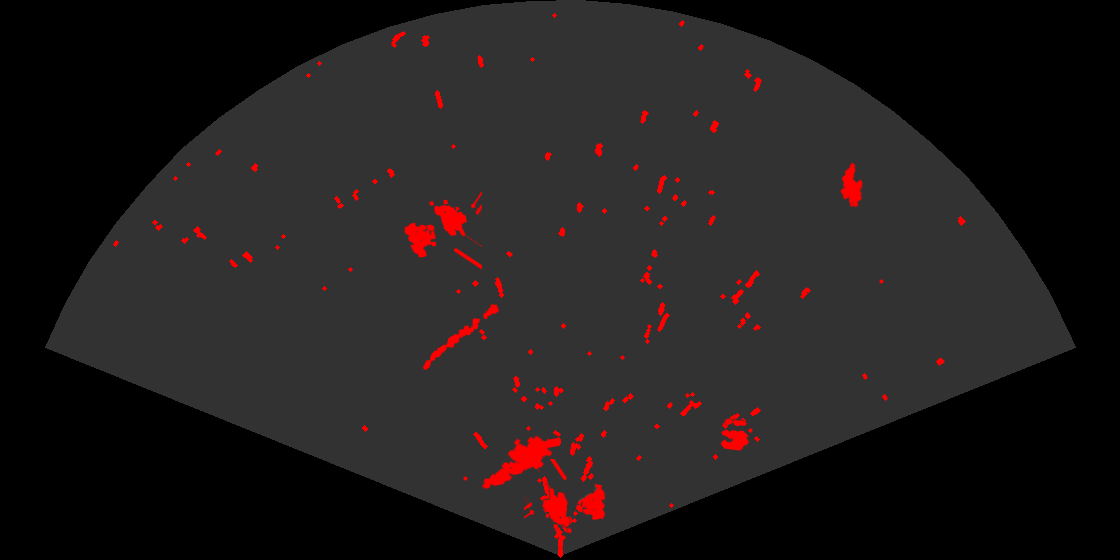AUV: (839, 161, 864, 209)
ball: (719, 417, 750, 452)
cage: (403, 190, 482, 271), (524, 459, 607, 535)
chain: (421, 303, 501, 371)
frogman: (480, 434, 560, 491)
